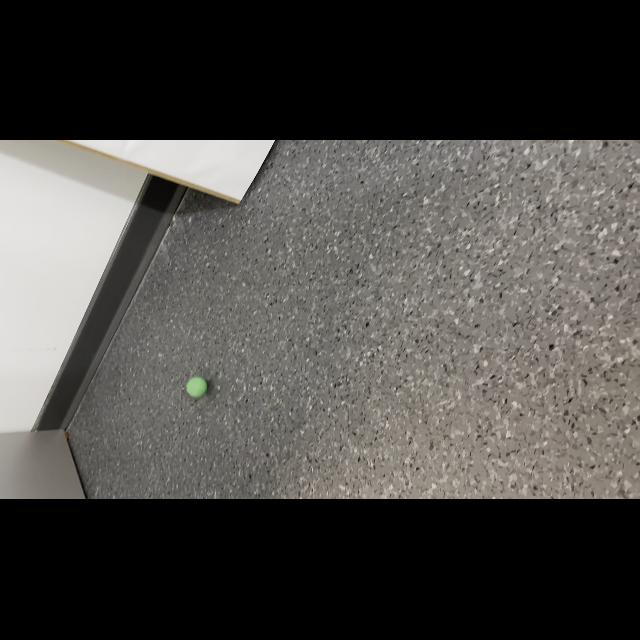objects: (182, 374, 210, 401)
